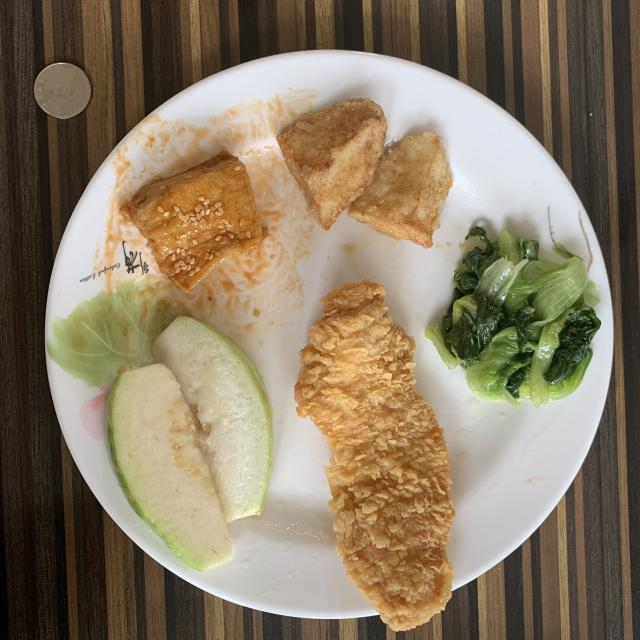coin: (34, 62, 91, 119)
creamy tofu: (120, 151, 264, 291)
fried chicken cutlet: (295, 280, 455, 631)
fried potato: (276, 99, 452, 248)
guava -sliced-: (106, 316, 272, 571)
mustard greens: (426, 226, 600, 405)
